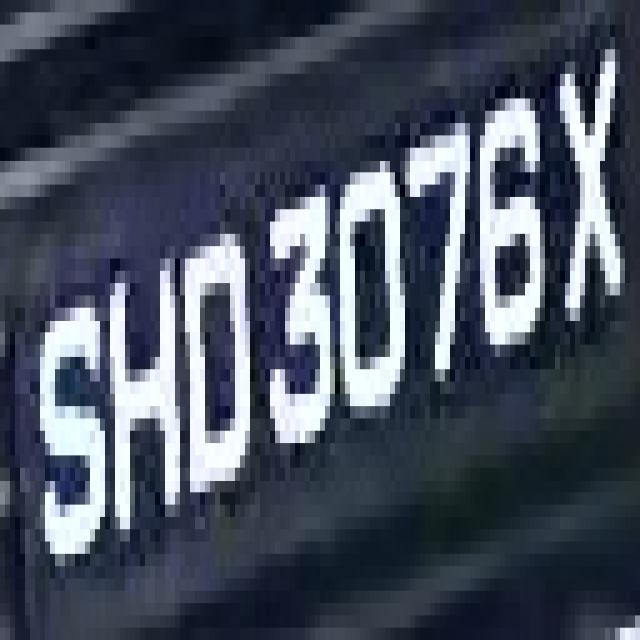0: (325, 123, 415, 443)
3: (265, 148, 335, 455)
6: (470, 61, 555, 382)
7: (395, 98, 475, 394)
D: (170, 197, 250, 529)
H: (105, 197, 180, 541)
S: (30, 258, 110, 591)
X: (545, 25, 640, 357)
